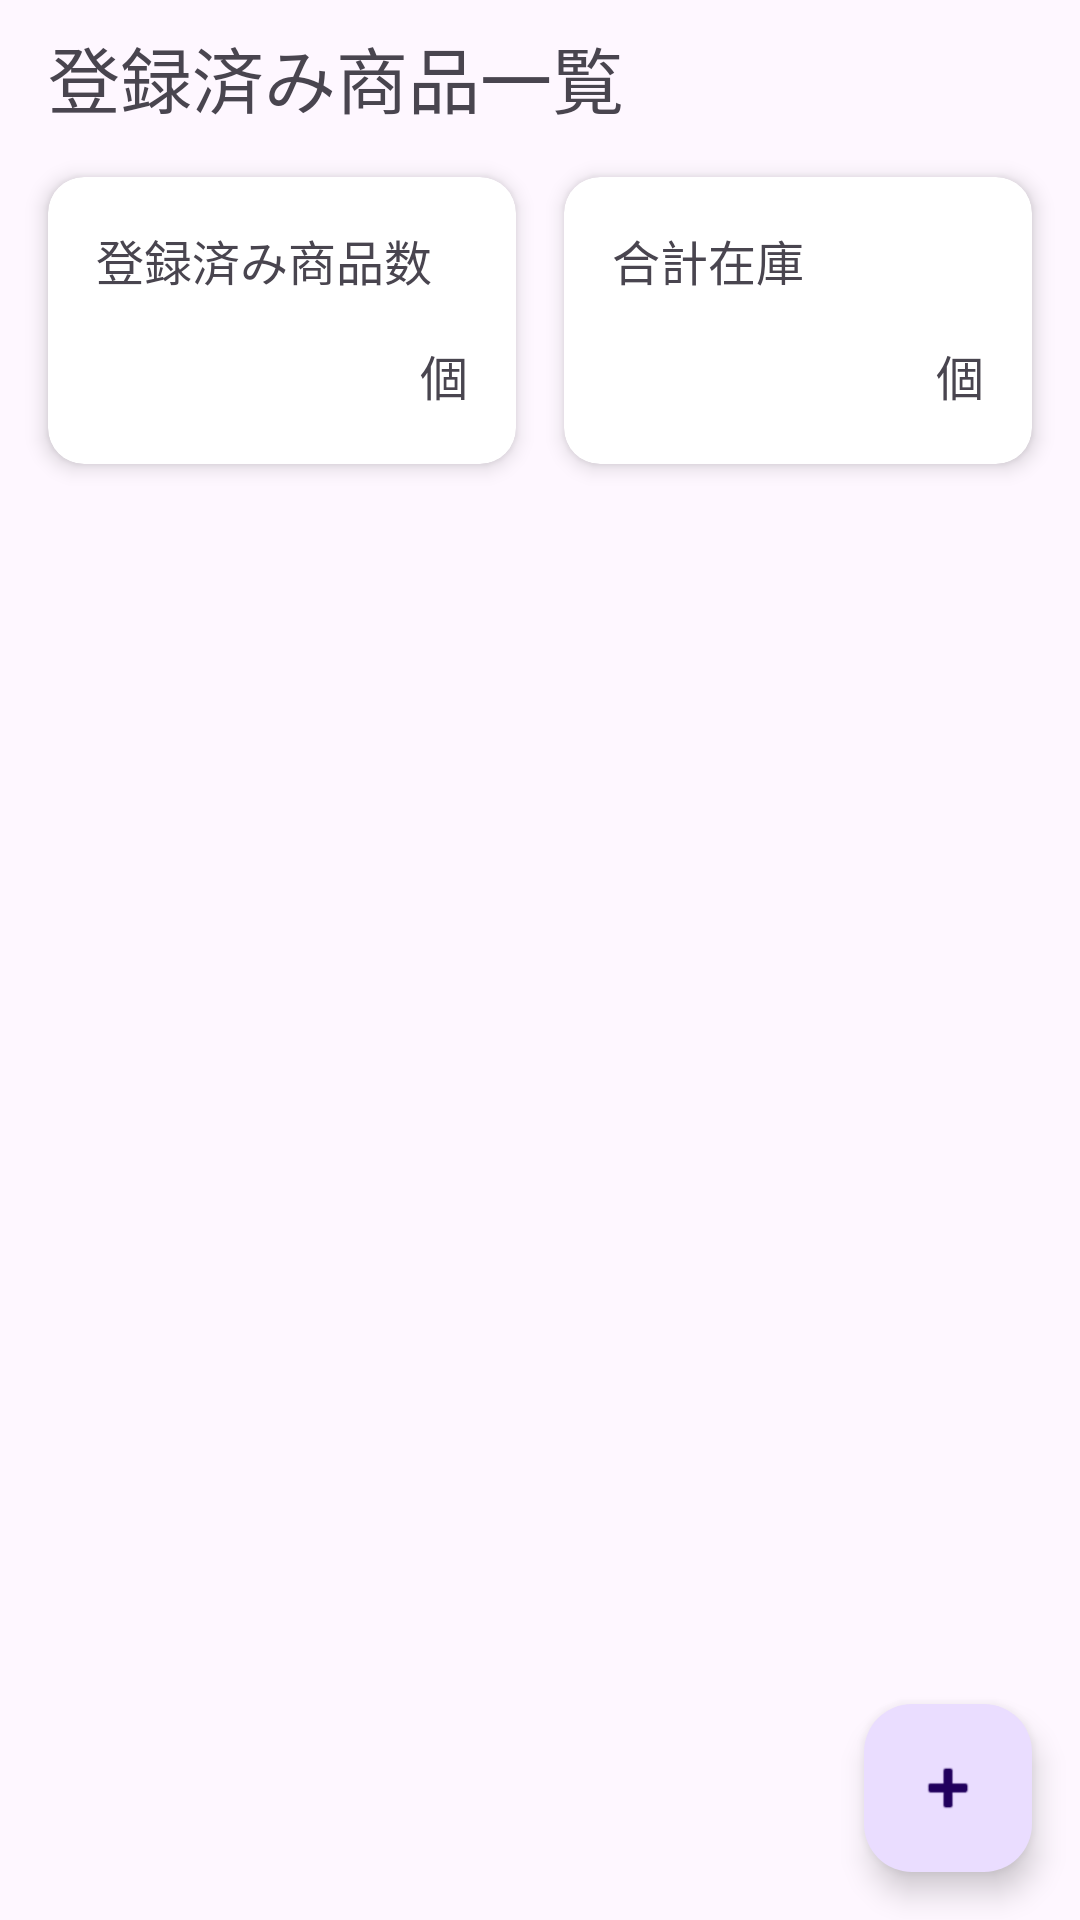

Named icons in this screenshot (1080px x 1920px) and their bounding boxes, [x1,y1,x2,y2]:
商品を追加: [864,1704,1032,1872]
